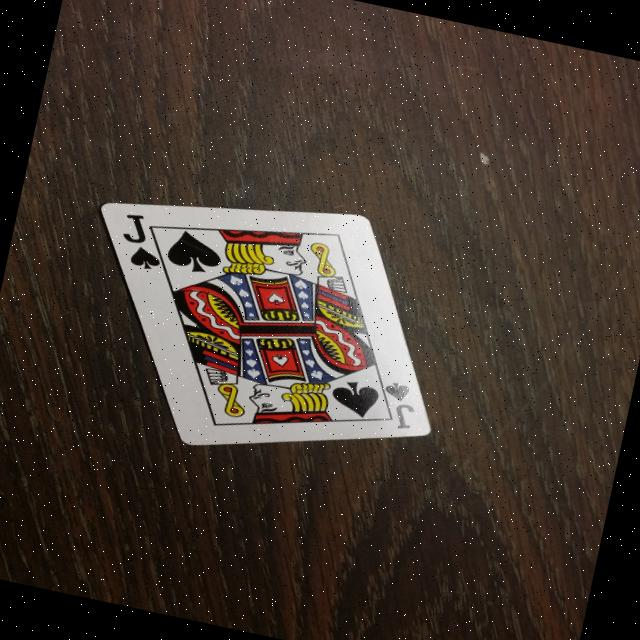Js: (105, 204, 177, 277), (366, 374, 427, 435)
